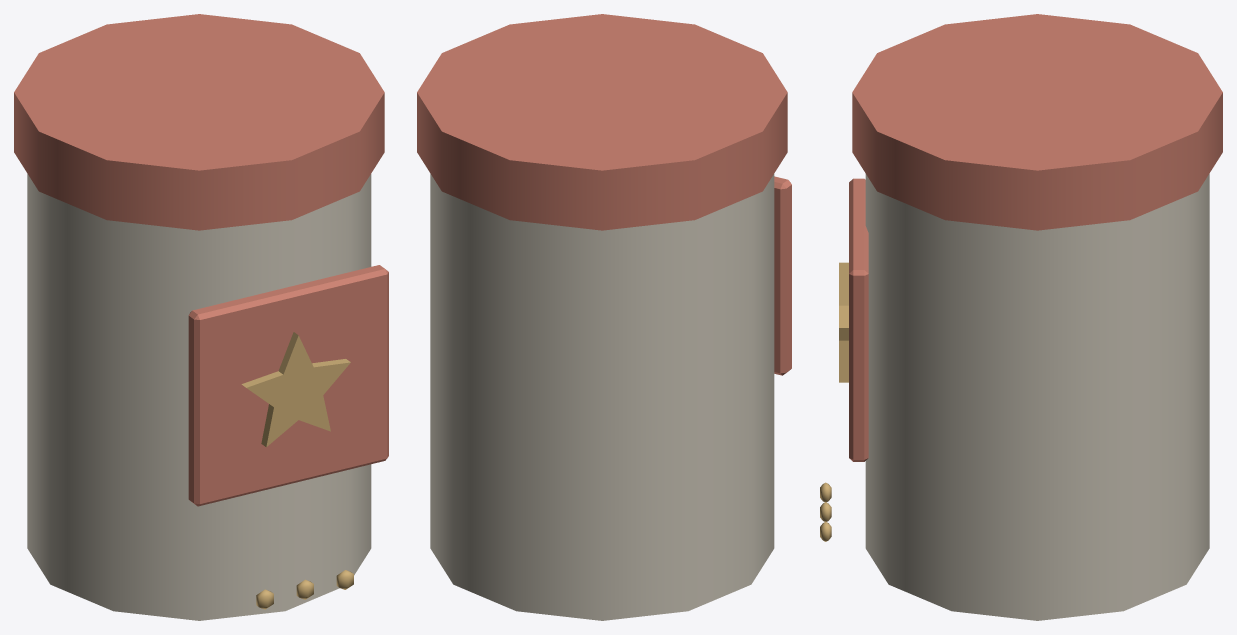
3 views of the same model, side by side, from view 1: azimuth 30°, elevation 25°; view 2: azimuth 150°, elevation 25°; view 3: azimuth 270°, elevation 25° (orthographic).
Parts seen in each view (by area): view 1: g_s05; view 2: g_s05; view 3: g_s05.
Boxes of the visible parts, x1,y1,x2,y2 form: g_s05: (14, 14, 388, 620); g_s05: (417, 14, 791, 620); g_s05: (820, 14, 1222, 620).
Bounding box in the file's own units: 0.28 × 0.38 × 0.3043.
